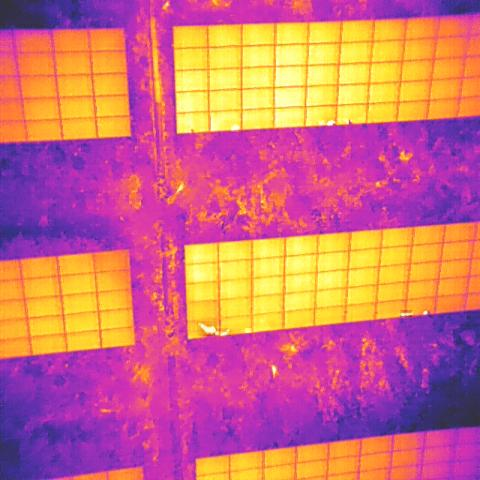fault: (197, 321, 217, 336), (221, 328, 231, 336), (401, 310, 412, 317), (231, 124, 240, 132), (328, 119, 336, 126), (245, 328, 252, 333), (422, 310, 428, 314)
